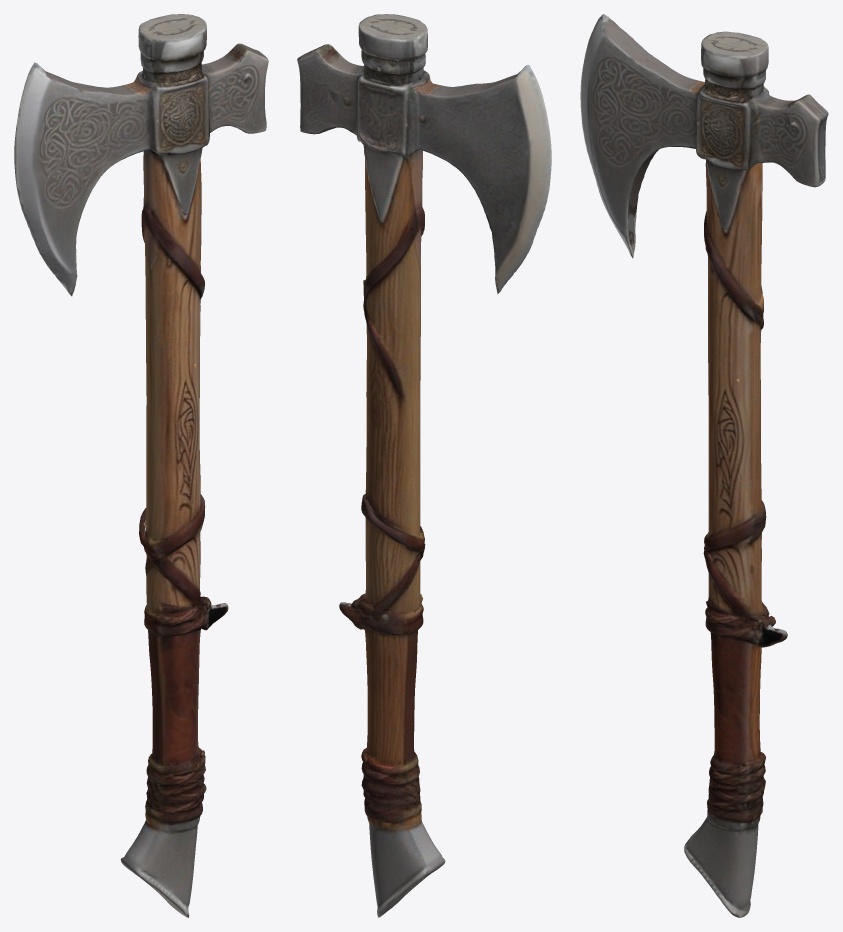
File: PF_Axe3.glb
The picture shows the model from 3 angles, left to right: view 1: azimuth 30°, elevation 25°; view 2: azimuth 150°, elevation 25°; view 3: azimuth 330°, elevation 25°; orthographic projection. The views are drawn at different scales.
Size of the model in its own units: 0.587 by 1.99 by 0.1275.
Materials: 1 (1 with a texture image).
